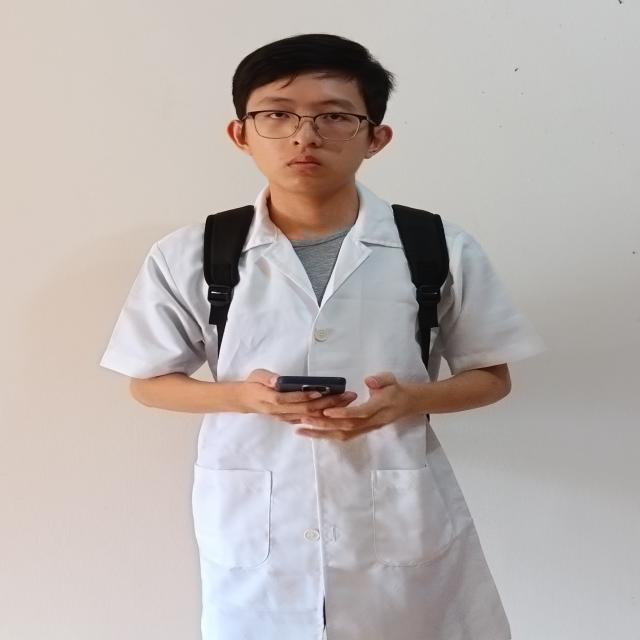person_with_labcoat: (102, 34, 540, 640)
